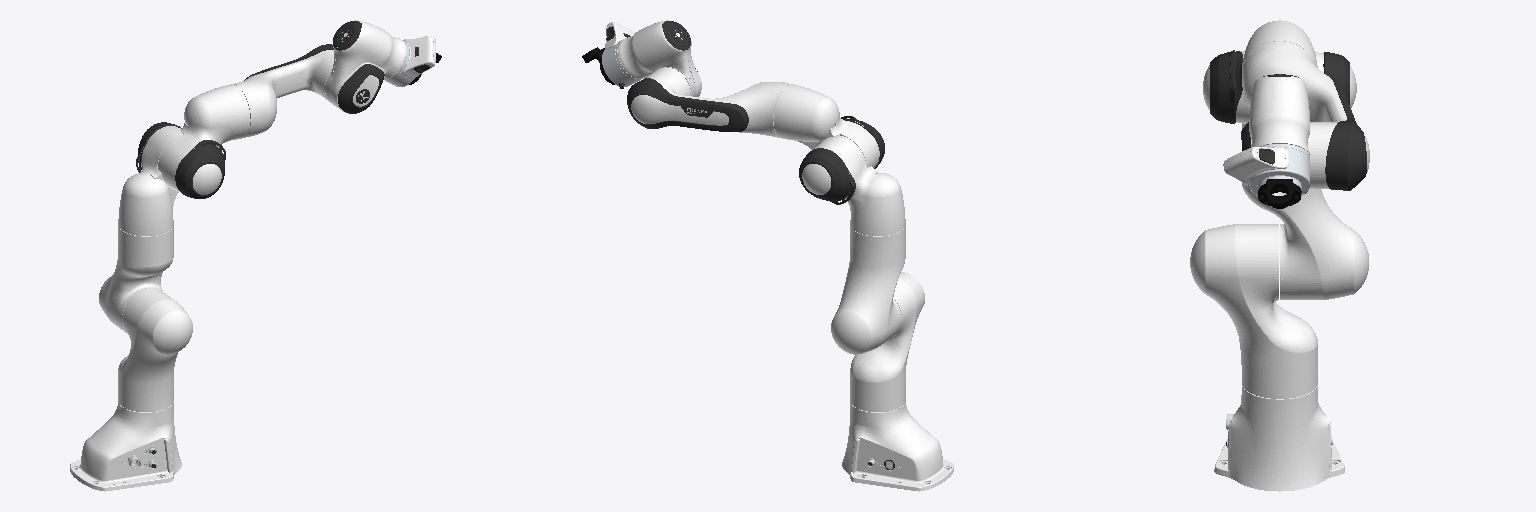
URDF robot description (panda):
<?xml version="1.0" ?>
<robot name="panda" xmlns:xacro="http://www.ros.org/wiki/xacro">

  <mujoco>
    <compiler meshdir="../meshes" discardvisual="false" />
  </mujoco>


  <link name="panda_link0">
    <visual>
      <origin
          xyz="0 0 0"
          rpy="0. 0. 0." />
      <geometry>
        <mesh filename="package://franka_description/meshes/visual/link0.dae"/>
      </geometry>
    </visual>
    <collision>
      <geometry>
        <mesh filename="package://franka_description/meshes/collision/link0.obj"/>
      </geometry>
    </collision>
  </link>
  <link name="panda_link1">
    <visual>
      <origin
          xyz="0 0 0"
          rpy="0. 0. 0." />
      <geometry>
        <mesh filename="package://franka_description/meshes/visual/link1.dae"/>
      </geometry>
    </visual>
    <collision>
      <geometry>
        <mesh filename="package://franka_description/meshes/collision/link1.obj"/>
      </geometry>
    </collision>
  </link>
  <joint name="panda_joint1" type="revolute">
    <safety_controller k_position="100.0" k_velocity="40.0" soft_lower_limit="-2.8973" soft_upper_limit="2.8973"/>
    <origin rpy="0 0 0" xyz="0 0 0.333"/>
    <parent link="panda_link0"/>
    <child link="panda_link1"/>
    <axis xyz="0 0 1"/>
    <dynamics damping="10.0"/>
    <limit effort="87" lower="-2.7437" upper="2.7437" velocity="2.62"/>
  </joint>
  <link name="panda_link2">
    <visual>
      <origin
          xyz="0 0 0"
          rpy="0. 0. 0." />
      <geometry>
        <mesh filename="package://franka_description/meshes/visual/link2.dae"/>
      </geometry>
    </visual>
    <collision>
      <geometry>
        <mesh filename="package://franka_description/meshes/collision/link2.obj"/>
      </geometry>
    </collision>
  </link>
  <joint name="panda_joint2" type="revolute">
    <safety_controller k_position="100.0" k_velocity="40.0" soft_lower_limit="-1.7628" soft_upper_limit="1.7628"/>
    <origin rpy="-1.57079632679 0 0" xyz="0 0 0"/>
    <parent link="panda_link1"/>
    <child link="panda_link2"/>
    <axis xyz="0 0 1"/>
    <dynamics damping="10.0"/>
    <limit effort="87" lower="-1.7837" upper="1.7837" velocity="2.62"/>
  </joint>
  <link name="panda_link3">
    <visual>
      <origin
          xyz="0 0 0"
          rpy="0. 0. 0." />
      <geometry>
        <mesh filename="package://franka_description/meshes/visual/link3.dae"/>
      </geometry>
    </visual>
    <collision>
      <geometry>
        <mesh filename="package://franka_description/meshes/collision/link3.obj"/>
      </geometry>
    </collision>
  </link>
  <joint name="panda_joint3" type="revolute">
    <safety_controller k_position="100.0" k_velocity="40.0" soft_lower_limit="-2.8973" soft_upper_limit="2.8973"/>
    <origin rpy="1.57079632679 0 0" xyz="0 -0.316 0"/>
    <parent link="panda_link2"/>
    <child link="panda_link3"/>
    <axis xyz="0 0 1"/>
    <dynamics damping="10.0"/>
    <limit effort="87" lower="-2.9007" upper="2.9007" velocity="2.62"/>
  </joint>
  <link name="panda_link4">
    <visual>
      <origin
          xyz="0 0 0"
          rpy="0. 0. 0." />
      <geometry>
        <mesh filename="package://franka_description/meshes/visual/link4.dae"/>
      </geometry>
    </visual>
    <collision>
      <geometry>
        <mesh filename="package://franka_description/meshes/collision/link4.obj"/>
      </geometry>
    </collision>
  </link>
  <joint name="panda_joint4" type="revolute">
    <safety_controller k_position="100.0" k_velocity="40.0" soft_lower_limit="-3.0718" soft_upper_limit="-0.0698"/>
    <origin rpy="1.57079632679 0 0" xyz="0.0825 0 0"/>
    <parent link="panda_link3"/>
    <child link="panda_link4"/>
    <axis xyz="0 0 1"/>    
    <dynamics damping="10.0"/>
    <limit effort="87" lower="-3.0421" upper="-0.1518" velocity="2.62"/>
    <!-- something is weird with this joint limit config
    <dynamics damping="10.0"/>
    <limit effort="87" lower="-3.0" upper="0.087" velocity="2.1750"/>  -->
  </joint>
  <link name="panda_link5">
    <visual>
      <origin
          xyz="0 0 0"
          rpy="0. 0. 0." />
      <geometry>
        <mesh filename="package://franka_description/meshes/visual/link5.dae"/>
      </geometry>
    </visual>
    <collision>
      <geometry>
        <mesh filename="package://franka_description/meshes/collision/link5.obj"/>
      </geometry>
    </collision>
  </link>
  <joint name="panda_joint5" type="revolute">
    <safety_controller k_position="100.0" k_velocity="40.0" soft_lower_limit="-2.8973" soft_upper_limit="2.8973"/>
    <origin rpy="-1.57079632679 0 0" xyz="-0.0825 0.384 0"/>
    <parent link="panda_link4"/>
    <child link="panda_link5"/>
    <axis xyz="0 0 1"/>
    <dynamics damping="10.0"/>
    <limit effort="12" lower="-2.8065" upper="2.8065" velocity="5.26"/>
  </joint>
  <link name="panda_link6">
    <visual>
      <origin
          xyz="0 0 0"
          rpy="0. 0. 0." />
      <geometry>
        <mesh filename="package://franka_description/meshes/visual/link6.dae"/>
      </geometry>
    </visual>
    <collision>
      <geometry>
        <mesh filename="package://franka_description/meshes/collision/link6.obj"/>
      </geometry>
    </collision>
  </link>
  <joint name="panda_joint6" type="revolute">
    <safety_controller k_position="100.0" k_velocity="40.0" soft_lower_limit="-0.0175" soft_upper_limit="3.7525"/>
    <origin rpy="1.57079632679 0 0" xyz="0 0 0"/>
    <parent link="panda_link5"/>
    <child link="panda_link6"/>
    <axis xyz="0 0 1"/>
    <dynamics damping="10.0"/>
    <limit effort="12" lower="0.5445" upper="4.5169" velocity="4.18"/>
    <!-- <dynamics damping="10.0"/>
    <limit effort="12" lower="-0.0873" upper="3.0" velocity="2.6100"/> -->
  </joint>
  <link name="panda_link7">
    <visual>
      <origin
          xyz="0 0 0"
          rpy="0. 0. 0." />
      <geometry>
        <mesh filename="package://franka_description/meshes/visual/link7.dae"/>
      </geometry>
    </visual>
    <collision>
      <geometry>
        <mesh filename="package://franka_description/meshes/collision/link7.obj"/>
      </geometry>
    </collision>
  </link>
  <joint name="panda_joint7" type="revolute">
    <safety_controller k_position="100.0" k_velocity="40.0" soft_lower_limit="-2.8973" soft_upper_limit="2.8973"/>
    <origin rpy="1.57079632679 0 0" xyz="0.088 0 0"/>
    <parent link="panda_link6"/>
    <child link="panda_link7"/>
    <axis xyz="0 0 1"/>
    <dynamics damping="10.0"/>
    <limit effort="12" lower="-3.0159" upper="3.0159" velocity="5.26"/>
  </joint>
  <!--
  <link name="panda_link8"/>
  <joint name="panda_joint8" type="fixed">
    <origin rpy="0 0 0" xyz="0 0 0.107"/>
    <parent link="panda_link7"/>
    <child link="panda_link8"/>
    <axis xyz="0 0 0"/>
  </joint>
  Removing this joint seems to help with some stability things
  -->


    <link name="wrist_connnect">
    <visual>
      <geometry>
        <mesh filename="package://franka_description/meshes/visual/wrist_connect5.STL"/>
      </geometry>
      <material name="black">
        <color rgba="0.1 0.1 0.1 1" />
      </material>
    </visual>
    <collision>
      <geometry>
        <mesh filename="package://franka_description/meshes/collision/wrist_connect5.STL"/>
      </geometry>
    </collision>
  </link>

  <joint name="arm_wrist_joint" type="fixed">
    <!--
    <parent link="panda_link8"/>
    -->
    <parent link="panda_link7"/>
    <child link="wrist_connnect"/>
    <!-- <origin rpy="-1.5707963 0 -0.785398163397" xyz="0 0 0.107"/> -->
    <origin rpy="-1.5707963 0 -1.5707963267948966" xyz="0 0 0.116"/>
    <!--
    <origin rpy="0 0 -0.785398163397" xyz="0 0 0"/>
    -->
  </joint>

    <joint name="wrist_hand_joint" type="fixed">
    <!--
    <parent link="panda_link8"/>
    -->
    <parent link="wrist_connnect"/>
    <child link="hand_base_link"/>
    <!-- <origin rpy="-1.5707963 0 -0.785398163397" xyz="0 0 0.107"/> -->
    <origin rpy="-1.5707963 0 1.5707963267948966" xyz="0 -0.02696 0.0447"/>
    <!--
    <origin rpy="0 0 -0.785398163397" xyz="0 0 0"/>
    -->
  </joint>

  <link name="hand_base_link">
    <inertial>
      <origin xyz="-0.0025264 -0.066047 0.0019598" rpy="0 0 0"/>
      <mass value="0.14143"/>
      <inertia ixx="0.00012281" ixy="2.1711E-06" ixz="1.7709E-06" iyy="8.3832E-05" iyz="-1.6551E-06" izz="7.6663E-05"/>
    </inertial>
    <visual>
      <origin xyz="0 0 0" rpy="0 0 0"/>
      <geometry>
        <mesh filename="meshes/visual/right_base_link.glb"/>
      </geometry>
    </visual>
    <collision>
      <origin xyz="0 -0.0136 0" rpy="1.57079 0 0"/>
      <geometry>
        <cylinder length="0.0278" radius="0.028"/>
      </geometry>
    </collision>
    <collision>
      <origin xyz="-0.0032 -0.038 0" rpy="0 0 0"/>
      <geometry>
        <box size="0.0391 0.0202 0.0574"/>
      </geometry>
    </collision>
    <collision>
      <origin xyz="-0.0032 -0.0682 0" rpy="0 0 0"/>
      <geometry>
        <box size="0.0391 0.04 0.0814"/>
      </geometry>
    </collision>
    <collision>
      <origin xyz="0 -0.1081 0" rpy="0 0 0"/>
      <geometry>
        <box size="0.0322 0.04 0.0814"/>
      </geometry>
    </collision>
    <collision>
      <origin xyz="-0.0016 -0.1340 0.0309" rpy="0 0 0"/>
      <geometry>
        <box size="0.0125 0.0111 0.0089"/>
      </geometry>
    </collision>
    <collision>
      <origin xyz="-0.0016 -0.1340 0.0118" rpy="0 0 0"/>
      <geometry>
        <box size="0.0125 0.0111 0.0089"/>
      </geometry>
    </collision>
    <collision>
      <origin xyz="-0.0016 -0.1340 -0.0070" rpy="0 0 0"/>
      <geometry>
        <box size="0.0125 0.0111 0.0089"/>
      </geometry>
    </collision>
    <collision>
      <origin xyz="-0.0016 -0.1340 -0.0262" rpy="0 0 0"/>
      <geometry>
        <box size="0.0125 0.0111 0.0089"/>
      </geometry>
    </collision>
  </link>
  <link name="thumb_proximal_base">
    <inertial>
      <origin xyz="-0.0048064 0.0009382 -0.00757" rpy="0 0 0"/>
      <mass value="0.0018869"/>
      <inertia ixx="5.816E-08" ixy="1.4539E-08" ixz="4.491E-09" iyy="7.9161E-08" iyz="-1.8727E-09" izz="6.7433E-08"/>
    </inertial>
    <visual>
      <origin xyz="0 0 0" rpy="0 0 0"/>
      <geometry>
        <mesh filename="meshes/visual/right_thumb_proximal_base.glb"/>
      </geometry>
    </visual>
    <collision>
      <origin xyz="0 0 0" rpy="0 0 0"/>
      <geometry>
        <mesh filename="meshes/collision/right_thumb_proximal_base.obj"/>
      </geometry>
    </collision>
  </link>
  <joint name="thumb_proximal_yaw_joint" type="revolute">
    <origin xyz="-0.01696 -0.0691 -0.02045" rpy="1.5708 -1.5708 0"/>
    <parent link="hand_base_link"/>
    <child link="thumb_proximal_base"/>
    <axis xyz="0 0 -1"/>
    <limit lower="0.0" upper="1.308" effort="1" velocity="0.5"/>
  </joint>
  <link name="thumb_proximal">
    <inertial>
      <origin xyz="0.021932 0.012785 -0.0080386" rpy="0 0 0"/>
      <mass value="0.0066075"/>
      <inertia ixx="1.5686E-06" ixy="-7.8296E-07" ixz="8.9143E-10" iyy="1.7353E-06" iyz="-1.0191E-09" izz="2.786E-06"/>
    </inertial>
    <visual>
      <origin xyz="0 0 0" rpy="0 0 0"/>
      <geometry>
        <mesh filename="meshes/visual/right_thumb_proximal.glb"/>
      </geometry>
    </visual>
    <collision>
      <origin xyz="0 0 0" rpy="0 0 0"/>
      <geometry>
        <mesh filename="meshes/collision/right_thumb_proximal.obj"/>
      </geometry>
    </collision>
  </link>
  <joint name="thumb_proximal_pitch_joint" type="revolute">
    <origin xyz="-0.0088099 0.010892 -0.00925" rpy="1.5708 0 2.8587"/>
    <parent link="thumb_proximal_base"/>
    <child link="thumb_proximal"/>
    <axis xyz="0 0 1"/>
    <limit lower="0" upper="0.6" effort="1" velocity="0.5"/>
  </joint>
  <link name="thumb_intermediate">
    <inertial>
      <origin xyz="0.0095544 -0.0016282 -0.0071997" rpy="0 0 0"/>
      <mass value="0.0037847"/>
      <inertia ixx="3.6981E-07" ixy="-9.8581E-08" ixz="-4.7469E-12" iyy="3.2394E-07" iyz="1.0939E-12" izz="4.6531E-07"/>
    </inertial>
    <visual>
      <origin xyz="0 0 0" rpy="0 0 0"/>
      <geometry>
        <mesh filename="meshes/visual/right_thumb_intermediate.glb"/>
      </geometry>
    </visual>
    <collision>
      <origin xyz="0 0 0" rpy="0 0 0"/>
      <geometry>
        <mesh filename="meshes/collision/right_thumb_intermediate.obj"/>
      </geometry>
    </collision>
  </link>
  <joint name="thumb_intermediate_joint" type="revolute">
    <origin xyz="0.04407 0.034553 -0.0008" rpy="0 0 0"/>
    <parent link="thumb_proximal"/>
    <child link="thumb_intermediate"/>
    <axis xyz="0 0 1"/>
    <limit lower="0" upper="0.8" effort="1" velocity="0.5"/>
    <mimic joint="thumb_proximal_pitch_joint" multiplier="1.334" offset="0"/>
  </joint>
  <link name="thumb_distal">
    <inertial>
      <origin xyz="0.0092888 0.0049529 -0.0060033" rpy="0 0 0"/>
      <mass value="0.0033441"/>
      <inertia ixx="1.3632E-07" ixy="-5.6788E-08" ixz="-9.2764E-11" iyy="1.4052E-07" iyz="-1.2283E-10" izz="2.0026E-07"/>
    </inertial>
    <visual>
      <origin xyz="0 0 0" rpy="0 0 0"/>
      <geometry>
        <mesh filename="meshes/visual/right_thumb_distal.glb"/>
      </geometry>
    </visual>
    <collision>
      <origin xyz="0 0 0" rpy="0 0 0"/>
      <geometry>
        <mesh filename="meshes/collision/right_thumb_distal.obj"/>
      </geometry>
    </collision>
  </link>
  <joint name="thumb_distal_joint" type="revolute">
    <origin xyz="0.020248 0.010156 -0.0012" rpy="0 0 0"/>
    <parent link="thumb_intermediate"/>
    <child link="thumb_distal"/>
    <axis xyz="0 0 1"/>
    <limit lower="0" upper="0.4" effort="1" velocity="0.5"/>
    <mimic joint="thumb_proximal_pitch_joint" multiplier="0.667" offset="0"/>
  </joint>
  <link name="index_proximal">
    <inertial>
      <origin xyz="0.0012259 0.011942 -0.0060001" rpy="0 0 0"/>
      <mass value="0.0042403"/>
      <inertia ixx="6.6232E-07" ixy="-1.5775E-08" ixz="1.8515E-12" iyy="2.1146E-07" iyz="-5.0828E-12" izz="6.9398E-07"/>
    </inertial>
    <visual>
      <origin xyz="0 0 0" rpy="0 0 0"/>
      <geometry>
        <mesh filename="meshes/visual/right_index_proximal.glb"/>
      </geometry>
    </visual>
    <collision>
      <origin xyz="0 0 0" rpy="0 0 0"/>
      <geometry>
        <mesh filename="meshes/collision/right_index_proximal.obj"/>
      </geometry>
    </collision>
  </link>
  <joint name="index_proximal_joint" type="revolute">
    <origin xyz="0.00028533 -0.13653 -0.032268" rpy="-3.1067 0 0"/>
    <parent link="hand_base_link"/>
    <child link="index_proximal"/>
    <axis xyz="0 0 1"/>
    <limit lower="0" upper="1.47" effort="1" velocity="0.5"/>
  </joint>
  <link name="index_intermediate">
    <inertial>
      <origin xyz="0.0019697 0.019589 -0.005" rpy="0 0 0"/>
      <mass value="0.0045683"/>
      <inertia ixx="7.6111E-07" ixy="8.7637E-08" ixz="-3.7751E-13" iyy="9.6076E-08" iyz="9.9444E-13" izz="7.8179E-07"/>
    </inertial>
    <visual>
      <origin xyz="0 0 0" rpy="0 0 0"/>
      <geometry>
        <mesh filename="meshes/visual/right_index_intermediate.glb"/>
      </geometry>
    </visual>
    <collision>
      <origin xyz="0 0 0" rpy="0 0 0"/>
      <geometry>
        <mesh filename="meshes/collision/right_index_intermediate.obj"/>
      </geometry>
    </collision>
  </link>
  <joint name="index_intermediate_joint" type="revolute">
    <origin xyz="-0.0026138 0.032026 -0.001" rpy="0 0 0"/>
    <parent link="index_proximal"/>
    <child link="index_intermediate"/>
    <axis xyz="0 0 1"/>
    <limit lower="-0.04545" upper="1.56" effort="1" velocity="0.5"/>
    <mimic joint="index_proximal_joint" multiplier="1.06399" offset="-0.04545"/>
  </joint>
  <link name="middle_proximal">
    <inertial>
      <origin xyz="0.001297 0.011934 -0.0060001" rpy="0 0 0"/>
      <mass value="0.0042403"/>
      <inertia ixx="6.6211E-07" ixy="-1.8461E-08" ixz="1.8002E-12" iyy="2.1167E-07" iyz="-6.6808E-12" izz="6.9397E-07"/>
    </inertial>
    <visual>
      <origin xyz="0 0 0" rpy="0 0 0"/>
      <geometry>
        <mesh filename="meshes/visual/right_index_proximal.glb"/>
      </geometry>
    </visual>
    <collision>
      <origin xyz="0 0 0" rpy="0 0 0"/>
      <geometry>
        <mesh filename="meshes/collision/right_index_proximal.obj"/>
      </geometry>
    </collision>
  </link>
  <joint name="middle_proximal_joint" type="revolute">
    <origin xyz="0.00028533 -0.1371 -0.01295" rpy="-3.1416 0 0"/>
    <parent link="hand_base_link"/>
    <child link="middle_proximal"/>
    <axis xyz="0 0 1"/>
    <limit lower="0" upper="1.47" effort="1" velocity="0.5"/>
  </joint>
  <link name="middle_intermediate">
    <inertial>
      <origin xyz="0.001921 0.020796 -0.005" rpy="0 0 0"/>
      <mass value="0.0050396"/>
      <inertia ixx="9.5822E-07" ixy="1.1425E-07" ixz="-2.4791E-12" iyy="1.0646E-07" iyz="5.9173E-12" izz="9.8384E-07"/>
    </inertial>
    <visual>
      <origin xyz="0 0 0" rpy="0 0 0"/>
      <geometry>
        <mesh filename="meshes/visual/right_middle_intermediate.glb"/>
      </geometry>
    </visual>
    <collision>
      <origin xyz="0 0 0" rpy="0 0 0"/>
      <geometry>
        <mesh filename="meshes/collision/right_middle_intermediate.obj"/>
      </geometry>
    </collision>
  </link>
  <joint name="middle_intermediate_joint" type="revolute">
    <origin xyz="-0.0024229 0.032041 -0.001" rpy="0 0 0"/>
    <parent link="middle_proximal"/>
    <child link="middle_intermediate"/>
    <axis xyz="0 0 1"/>
    <limit lower="-0.04545" upper="1.56" effort="1" velocity="0.5"/>
    <mimic joint="middle_proximal_joint" multiplier="1.06399" offset="-0.04545"/>
  </joint>
  <link name="ring_proximal">
    <inertial>
      <origin xyz="0.001297 0.011934 -0.0060002" rpy="0 0 0"/>
      <mass value="0.0042403"/>
      <inertia ixx="6.6211E-07" ixy="-1.8461E-08" ixz="1.5793E-12" iyy="2.1167E-07" iyz="-6.6868E-12" izz="6.9397E-07"/>
    </inertial>
    <visual>
      <origin xyz="0 0 0" rpy="0 0 0"/>
      <geometry>
        <mesh filename="meshes/visual/right_index_proximal.glb"/>
      </geometry>
    </visual>
    <collision>
      <origin xyz="0 0 0" rpy="0 0 0"/>
      <geometry>
        <mesh filename="meshes/collision/right_index_proximal.obj"/>
      </geometry>
    </collision>
  </link>
  <joint name="ring_proximal_joint" type="revolute">
    <origin xyz="0.00028533 -0.13691 0.0062872" rpy="3.0892 0 0"/>
    <parent link="hand_base_link"/>
    <child link="ring_proximal"/>
    <axis xyz="0 0 1"/>
    <limit lower="0" upper="1.47" effort="1" velocity="0.5"/>
  </joint>
  <link name="ring_intermediate">
    <inertial>
      <origin xyz="0.0021753 0.019567 -0.005" rpy="0 0 0"/>
      <mass value="0.0045683"/>
      <inertia ixx="7.6286E-07" ixy="8.0635E-08" ixz="-6.1562E-13" iyy="9.431E-08" iyz="5.8619E-13" izz="7.8177E-07"/>
    </inertial>
    <visual>
      <origin xyz="0 0 0" rpy="0 0 0"/>
      <geometry>
        <mesh filename="meshes/visual/right_index_intermediate.glb"/>
      </geometry>
    </visual>
    <collision>
      <origin xyz="0 0 0" rpy="0 0 0"/>
      <geometry>
        <mesh filename="meshes/collision/right_index_intermediate.obj"/>
      </geometry>
    </collision>
  </link>
  <joint name="ring_intermediate_joint" type="revolute">
    <origin xyz="-0.0024229 0.032041 -0.001" rpy="0 0 0"/>
    <parent link="ring_proximal"/>
    <child link="ring_intermediate"/>
    <axis xyz="0 0 1"/>
    <limit lower="-0.04545" upper="1.56" effort="1" velocity="0.5"/>
    <mimic joint="ring_proximal_joint" multiplier="1.06399" offset="-0.04545"/>
  </joint>
  <link name="pinky_proximal">
    <inertial>
      <origin xyz="0.001297 0.011934 -0.0060001" rpy="0 0 0"/>
      <mass value="0.0042403"/>
      <inertia ixx="6.6211E-07" ixy="-1.8461E-08" ixz="1.6907E-12" iyy="2.1167E-07" iyz="-6.9334E-12" izz="6.9397E-07"/>
    </inertial>
    <visual>
      <origin xyz="0 0 0" rpy="0 0 0"/>
      <geometry>
        <mesh filename="meshes/visual/right_index_proximal.glb"/>
      </geometry>
    </visual>
    <collision>
      <origin xyz="0 0 0" rpy="0 0 0"/>
      <geometry>
        <mesh filename="meshes/collision/right_index_proximal.obj"/>
      </geometry>
    </collision>
  </link>
  <joint name="pinky_proximal_joint" type="revolute">
    <origin xyz="0.00028533 -0.13571 0.025488" rpy="3.0369 0 0"/>
    <parent link="hand_base_link"/>
    <child link="pinky_proximal"/>
    <axis xyz="0 0 1"/>
    <limit lower="0" upper="1.47" effort="1" velocity="0.5"/>
  </joint>
  <link name="pinky_intermediate">
    <inertial>
      <origin xyz="0.0024748 0.016203 -0.0050031" rpy="0 0 0"/>
      <mass value="0.0035996"/>
      <inertia ixx="4.3913E-07" ixy="4.1418E-08" ixz="3.7168E-11" iyy="7.0247E-08" iyz="5.8613E-11" izz="4.4867E-07"/>
    </inertial>
    <visual>
      <origin xyz="0 0 0" rpy="0 0 0"/>
      <geometry>
        <mesh filename="meshes/visual/right_pinky_intermediate.glb"/>
      </geometry>
    </visual>
    <collision>
      <origin xyz="0 0 0" rpy="0 0 0"/>
      <geometry>
        <mesh filename="meshes/collision/right_pinky_intermediate.obj"/>
      </geometry>
    </collision>
  </link>
  <joint name="pinky_intermediate_joint" type="revolute">
    <origin xyz="-0.0024229 0.032041 -0.001" rpy="0 0 0"/>
    <parent link="pinky_proximal"/>
    <child link="pinky_intermediate"/>
    <axis xyz="0 0 1"/>
    <limit lower="-0.04545" upper="1.56" effort="1" velocity="0.5"/>
    <mimic joint="pinky_proximal_joint" multiplier="1.06399" offset="-0.04545"/>
  </joint>

  <link name='thumb_tip'/>
  <joint name="thumb_tip_joint" type="fixed">
    <origin xyz="0.0202 0.0140 -0.006" rpy="0 0 0"/>
    <parent link="thumb_distal"/>
    <child link="thumb_tip"/>
  </joint>
  <link name='index_tip'/>
  <joint name="index_tip_joint" type="fixed">
    <origin xyz="-0.0008 0.045 -0.005" rpy="0 0 0"/>
    <parent link="index_intermediate"/>
    <child link="index_tip"/>
  </joint>
  <link name='middle_tip'/>
  <joint name="middle_tip_joint" type="fixed">
    <origin xyz="-0.001 0.048 -0.005" rpy="0 0 0"/>
    <parent link="middle_intermediate"/>
    <child link="middle_tip"/>
  </joint>
  <link name='ring_tip'/>
  <joint name="ring_tip_joint" type="fixed">
    <origin xyz="-0.0008 0.045 -0.005" rpy="0 0 0"/>
    <parent link="ring_intermediate"/>
    <child link="ring_tip"/>
  </joint>
  <link name='pinky_tip'/>
  <joint name="pinky_tip_joint" type="fixed">
    <origin xyz="-0.0008 0.037 -0.005" rpy="0 0 0"/>
    <parent link="pinky_intermediate"/>
    <child link="pinky_tip"/>
  </joint>
</robot>

--- What the picture shows (computed from the rendered views, not written in the file) ---
Views: 3 orthographic renders of the robot side by side, from view 1: azimuth 30°, elevation 25°; view 2: azimuth 150°, elevation 25°; view 3: azimuth 270°, elevation 25°.
Model panda with 27 links and 26 joints (19 revolute, 7 fixed), rooted at panda_link0, posed all joints at 0 but 2 set to mid-range because 0 is outside their limits (panda_joint4 = -1.6, panda_joint6 = 2.53, index_intermediate_joint = -0.0454, middle_intermediate_joint = -0.0454, ring_intermediate_joint = -0.0454, pinky_intermediate_joint = -0.0454).
Visible links, largest first — view 1: panda_link0, panda_link1, panda_link4, panda_link6, panda_link3, panda_link5, panda_link2, panda_link7; view 2: panda_link0, panda_link5, panda_link2, panda_link3, panda_link1, panda_link4, panda_link6, panda_link7; view 3: panda_link1, panda_link0, panda_link5, panda_link2, panda_link6, panda_link4, panda_link7, panda_link3, wrist_connnect.
Boxes of the visible links, <box> form: panda_link0: <box>70,401,181,491</box>; panda_link1: <box>118,288,192,411</box>; panda_link4: <box>158,84,250,198</box>; panda_link6: <box>325,20,405,113</box>; panda_link3: <box>118,122,182,235</box>; panda_link5: <box>234,44,333,137</box>; panda_link2: <box>99,226,173,332</box>; panda_link7: <box>384,36,435,86</box>; panda_link0: <box>842,402,953,491</box>; panda_link5: <box>627,67,789,137</box>; panda_link2: <box>831,226,905,354</box>; panda_link3: <box>799,135,905,235</box>; panda_link1: <box>850,272,924,411</box>; panda_link4: <box>773,84,884,168</box>; panda_link6: <box>618,20,701,96</box>; panda_link7: <box>602,22,640,88</box>; panda_link1: <box>1190,224,1317,398</box>; panda_link0: <box>1214,385,1344,491</box>; panda_link5: <box>1242,41,1369,190</box>; panda_link2: <box>1242,183,1368,299</box>; panda_link6: <box>1241,74,1309,154</box>; panda_link4: <box>1203,20,1317,123</box>; panda_link7: <box>1223,144,1309,195</box>; panda_link3: <box>1242,52,1356,128</box>; wrist_connnect: <box>1258,179,1301,208</box>.
Bounding box of the posed robot: 0.8317 × 0.2593 × 0.8578 m (x, y, z).
Meshes: 18 distinct files referenced, 9 mesh visuals loaded (1 binary STL, 8 Collada DAE); not drawn: 13 (reference not matched to a file when rendering).